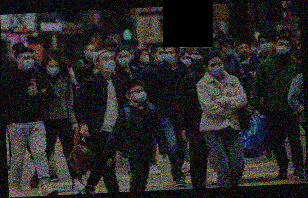with_mask: (101, 54, 117, 73), (208, 61, 225, 77), (132, 87, 148, 103), (45, 63, 61, 78), (275, 41, 290, 56), (21, 55, 35, 71), (163, 49, 177, 65), (191, 58, 204, 74), (118, 52, 131, 67), (259, 39, 272, 52), (180, 55, 192, 68), (227, 44, 238, 58), (155, 50, 165, 63), (108, 47, 118, 59), (87, 48, 97, 59), (141, 52, 150, 64), (214, 39, 221, 49), (129, 50, 135, 61), (250, 44, 257, 53)
without_mask: (238, 44, 249, 56)
